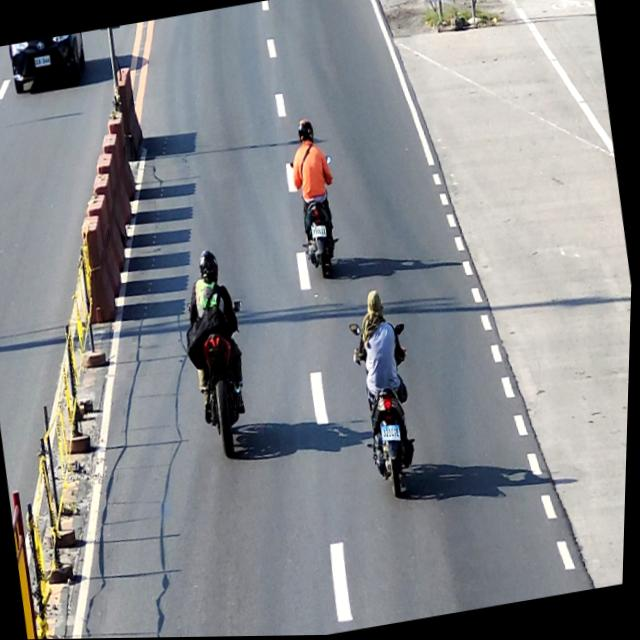Car: (7, 32, 90, 97)
License-Plate: (383, 425, 405, 445), (312, 225, 329, 240), (34, 55, 52, 67)
Motorcycle: (346, 314, 435, 504), (184, 292, 268, 466), (288, 153, 351, 282)
